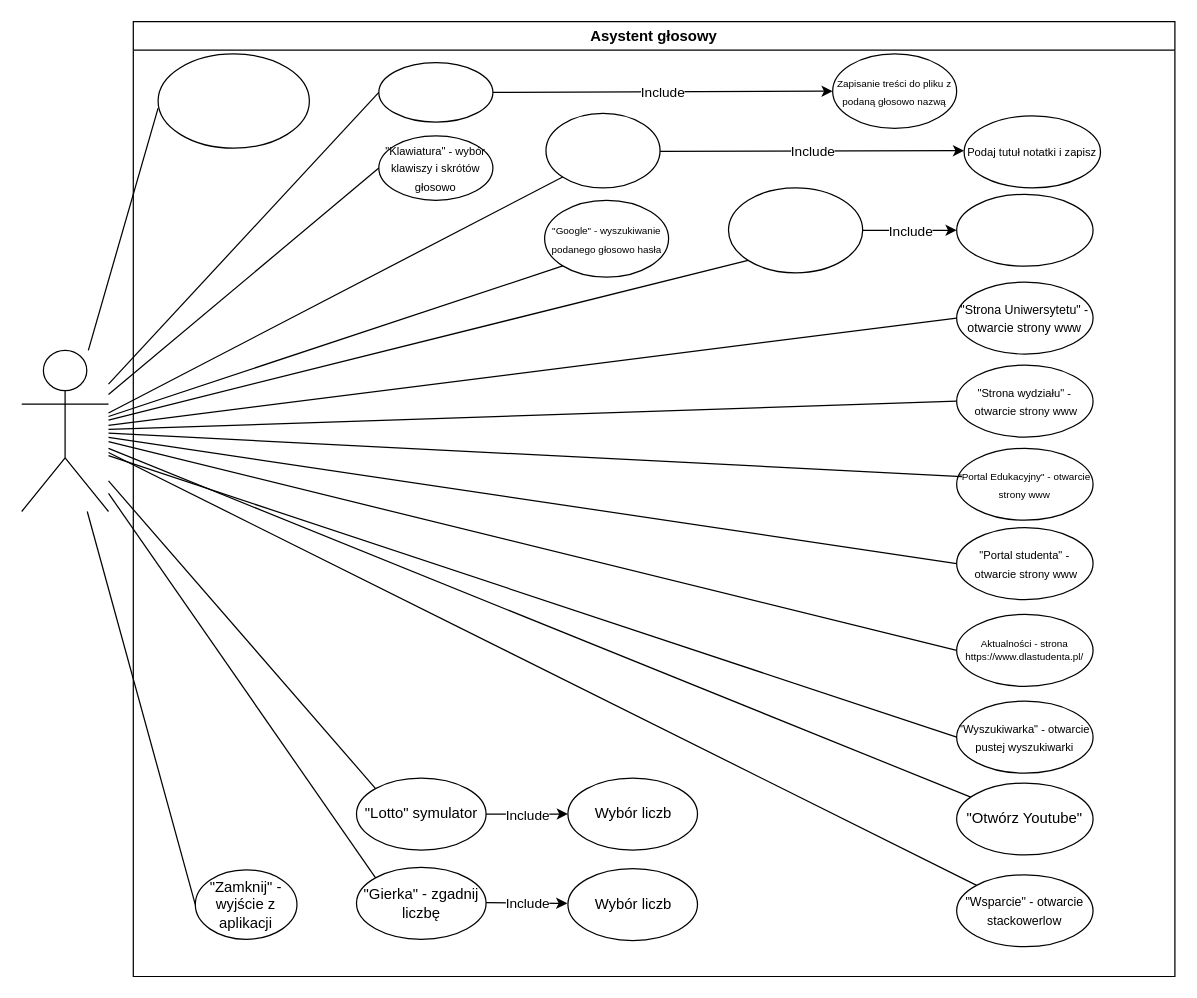
Some shapes in this 1197 by 998 pixel diagram are drawn without their labels. Here are the shapes that lost their labels. From the top down, the centre of each, then its label:
point 233,100: "Otwórz plik" - otwarcie zapisanego pliku poprzez podanie głosowo nazwy pliku
point 435,91: "Wikipedia" - wyszukiwanie hasła
point 602,150: "Notatka" - sporządzenie notatki głosowej
point 795,230: "Screenshot" - zapis zawartości ekranu
point 1024,229: Podaj nazwę dla pliku i zapisz
point 64,430: Actor
